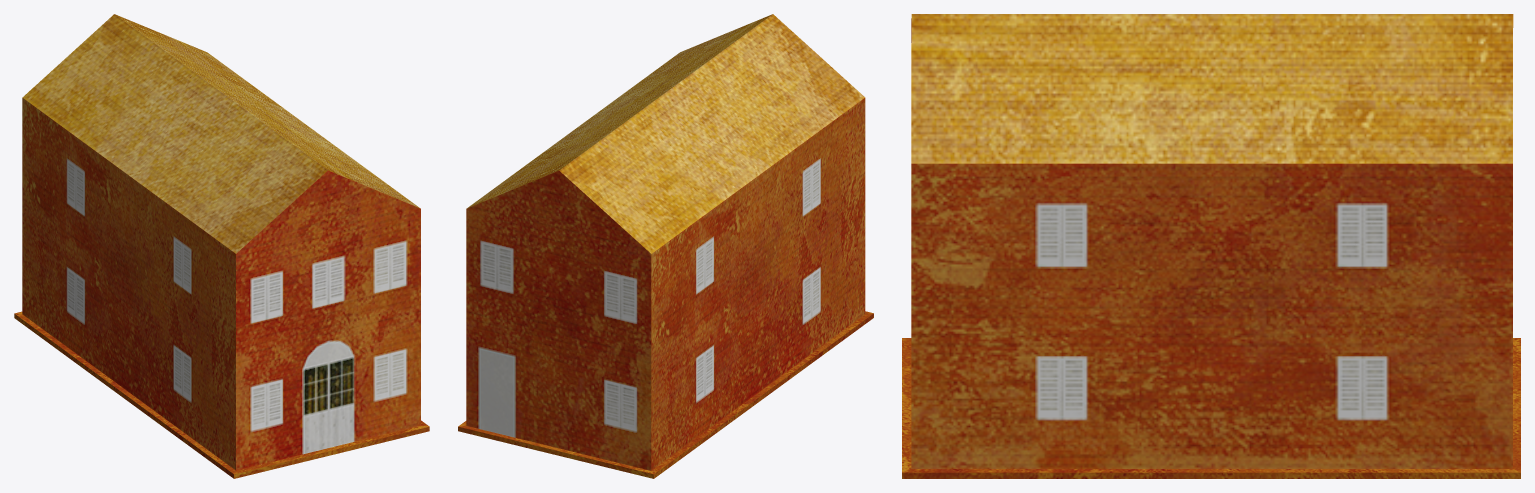
File: House_Single_2_LOD_1.fbx
3 renders of one model, left to right at view 1: azimuth 30°, elevation 25°; view 2: azimuth 150°, elevation 25°; view 3: azimuth 270°, elevation 25°, orthographic. The views are drawn at different scales.
Visible parts, largest first — view 1: Cube; view 2: Cube; view 3: Cube.
Part boxes in pixels (x1=…): Cube: x1=14, y1=14, x2=429, y2=478; Cube: x1=458, y1=14, x2=873, y2=478; Cube: x1=902, y1=14, x2=1520, y2=478.
Size of the model in its own units: 740 by 1021 by 1440.
